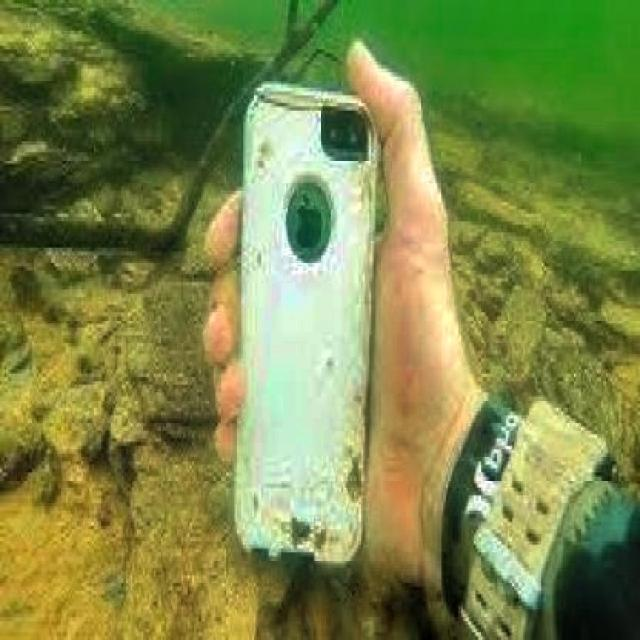cellphone: (232, 79, 380, 572)
